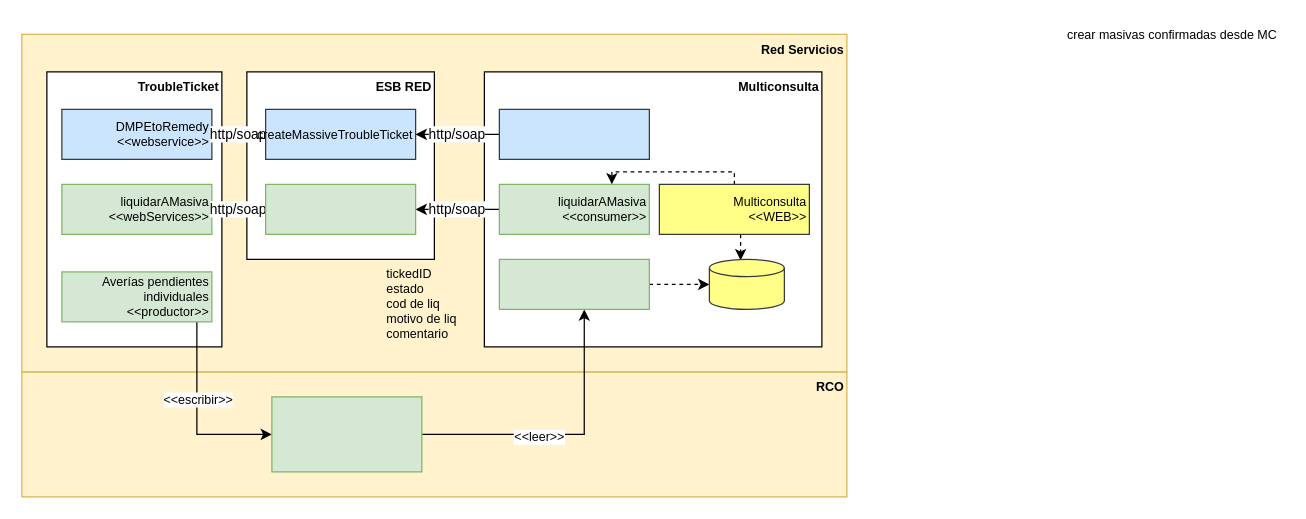
The diagram is 1306 pixels wide and 519 high, and some of its shapes have lost their labels. Each missing label, with the centre of its shape:
"createMassiveTroubleTicket <<consumer>>" belongs at point 573,133.
"liquidarAMasiva" belongs at point 340,208.
"Listener <<suscriptor>>" belongs at point 573,283.
"MC DB" belongs at point 746,283.
"Topico" belongs at point 346,434.
